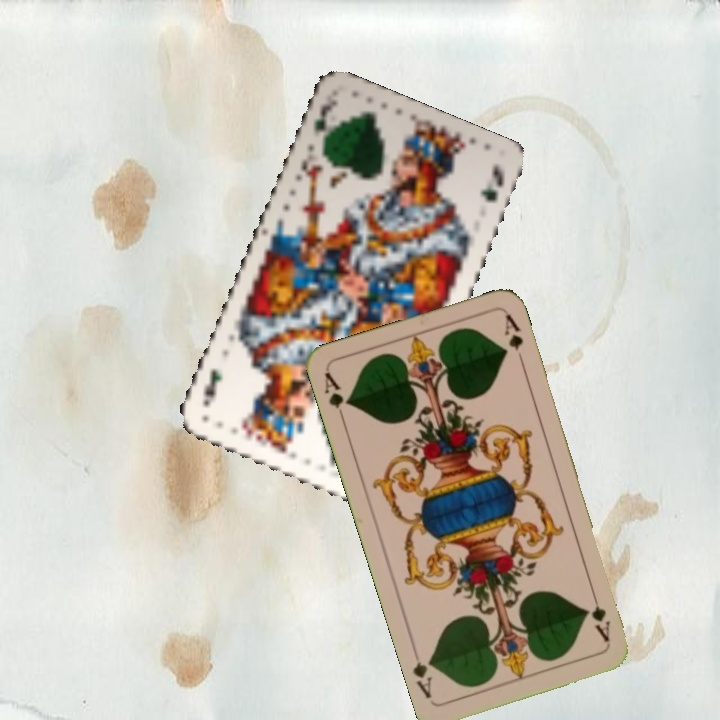GA: (320, 369, 353, 426), (587, 588, 613, 645)
GK: (309, 96, 341, 148)
